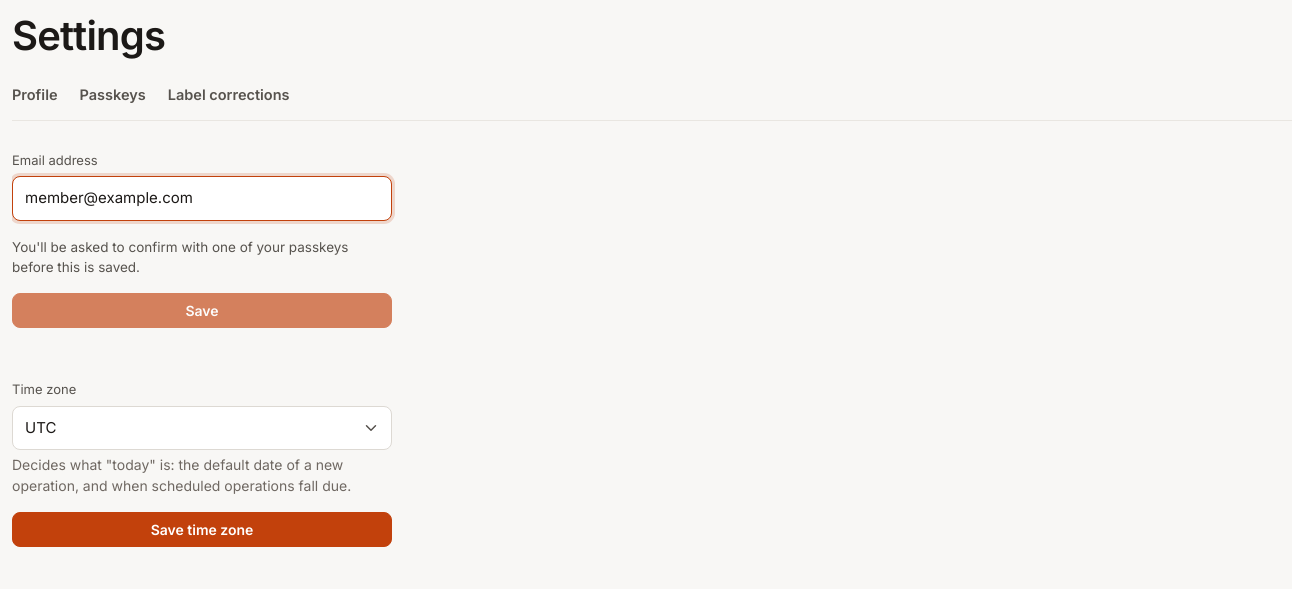
Test case: ProfilePage › shows a validation error and doesn't submit for an invalid email
The image size is (1292, 589).
Replace the text in the field labelled "Email address" with "not-an-email" at (202, 199), box [12,176,392,221]
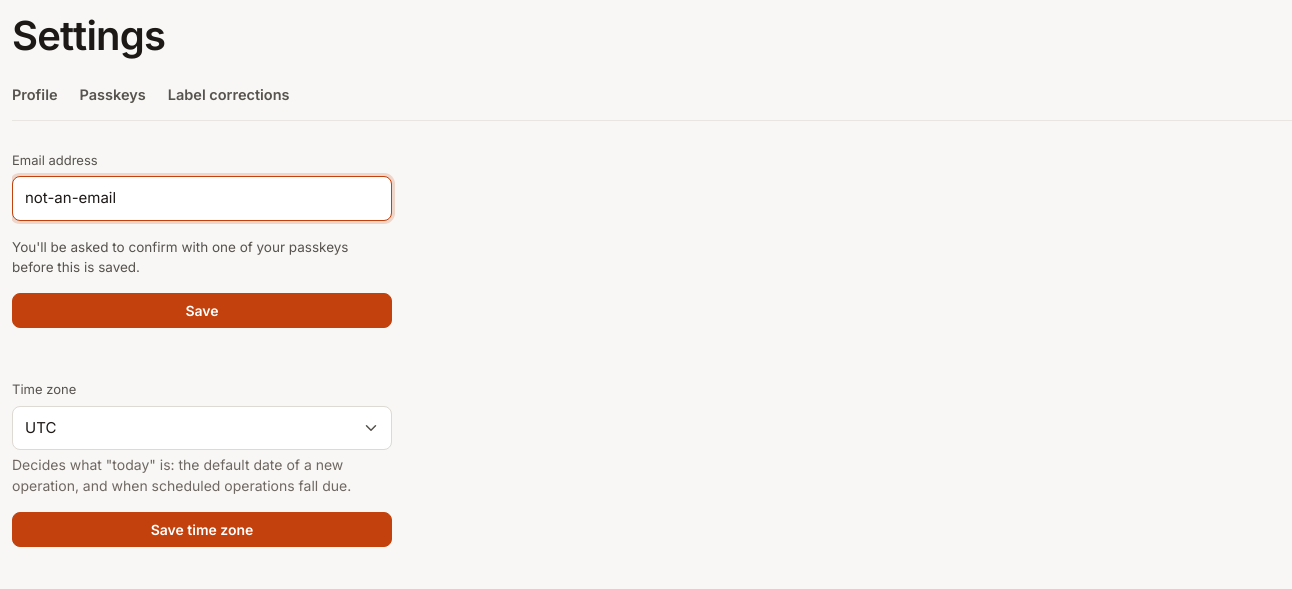
Submit the form that starts with "Email address", box [12,147,392,328]
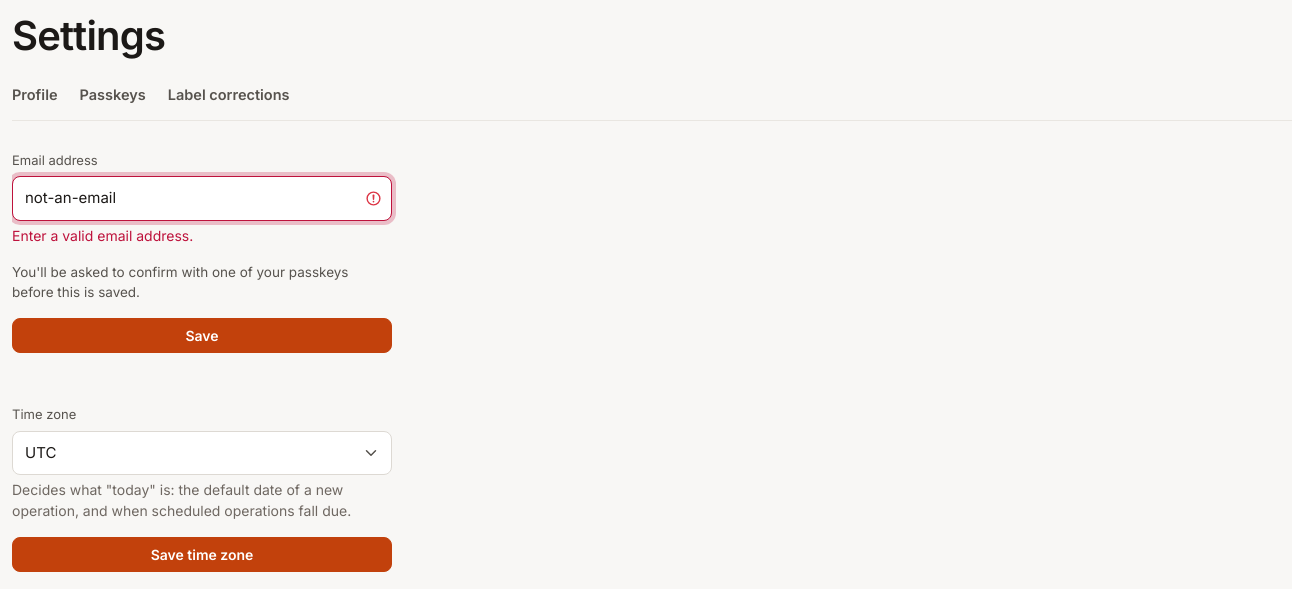
Check: the text "Enter a valid email address." is shown, box [12,227,193,244]
